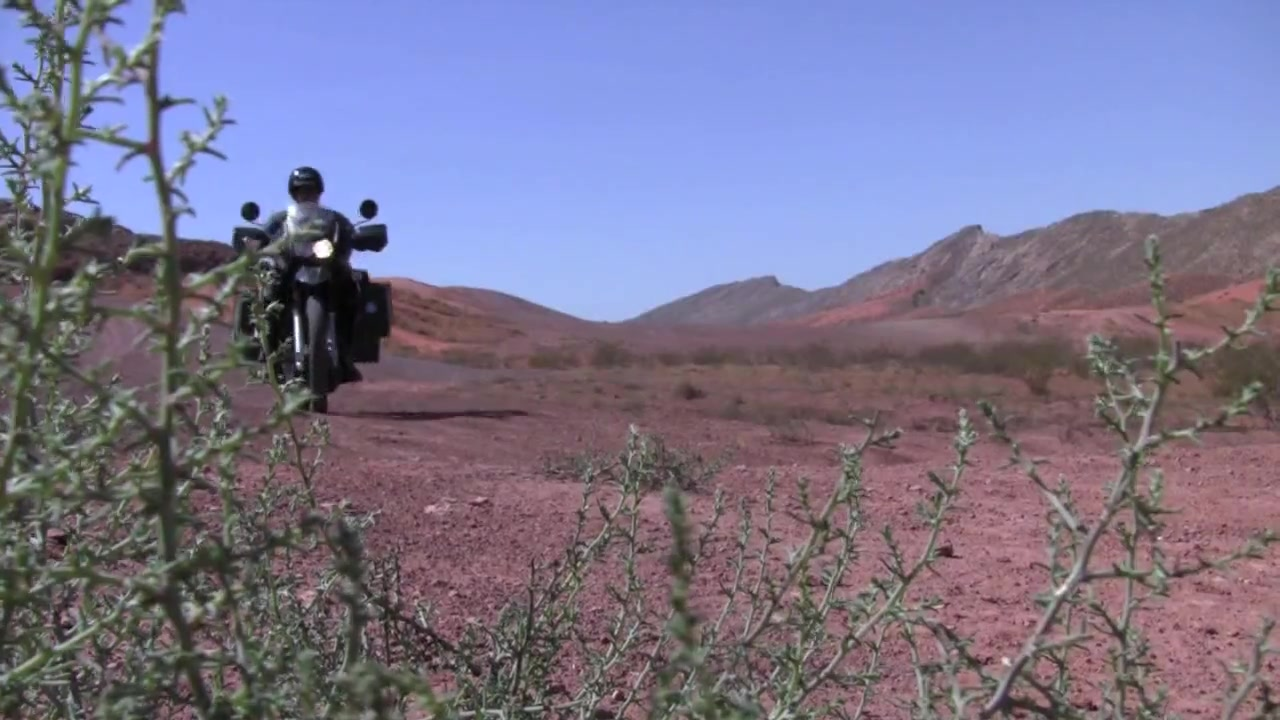motorbike: (230, 194, 400, 419)
